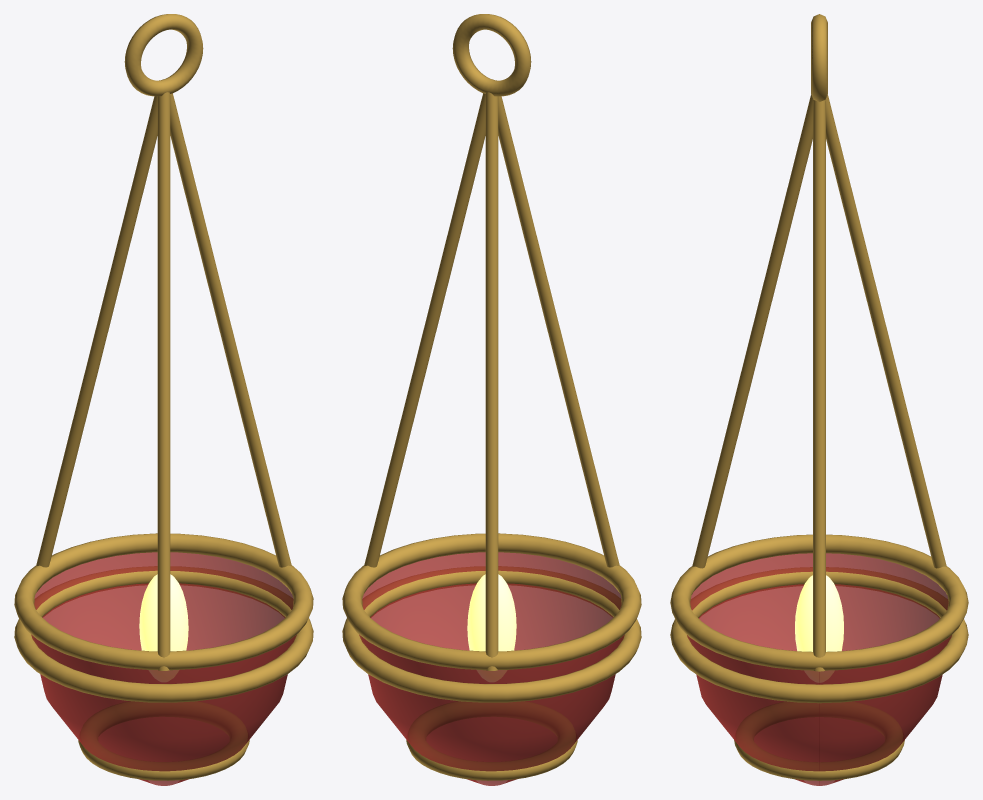
Rendered from hanging-lamp.glb.
The picture shows the model from 3 angles, left to right: view 1: azimuth 30°, elevation 25°; view 2: azimuth 150°, elevation 25°; view 3: azimuth 270°, elevation 25°; orthographic projection.
Visible parts, largest first — view 1: hanging-lamp, flame-lamp; view 2: hanging-lamp, flame-lamp; view 3: hanging-lamp, flame-lamp.
Boxes of the visible parts, x1=… form: hanging-lamp: x1=14, y1=14, x2=313, y2=785; flame-lamp: x1=139, y1=574, x2=188, y2=681; hanging-lamp: x1=342, y1=14, x2=641, y2=785; flame-lamp: x1=467, y1=574, x2=516, y2=681; hanging-lamp: x1=670, y1=14, x2=968, y2=785; flame-lamp: x1=795, y1=575, x2=843, y2=682.
Bounding box in the file's own units: 0.7505 × 2.11 × 0.75.
